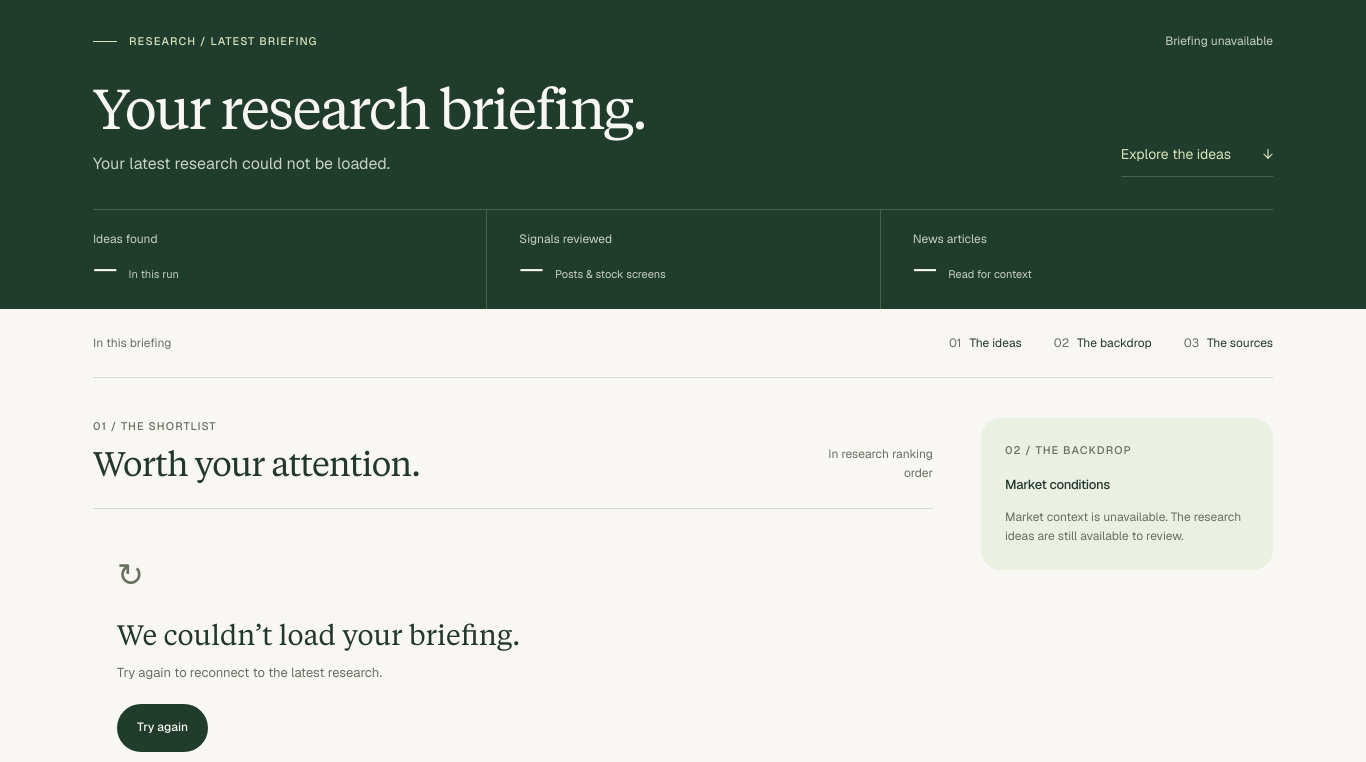
Test: research briefing › distinguishes the first-run empty state from a fetch failure and supports retry
Check: the message shows "We couldn’t load your briefing.", box [117, 615, 520, 652]
Check: the text "No qualifying ideas this run" is not shown
Click the button "Try again": (163, 728) [117, 704, 208, 752]
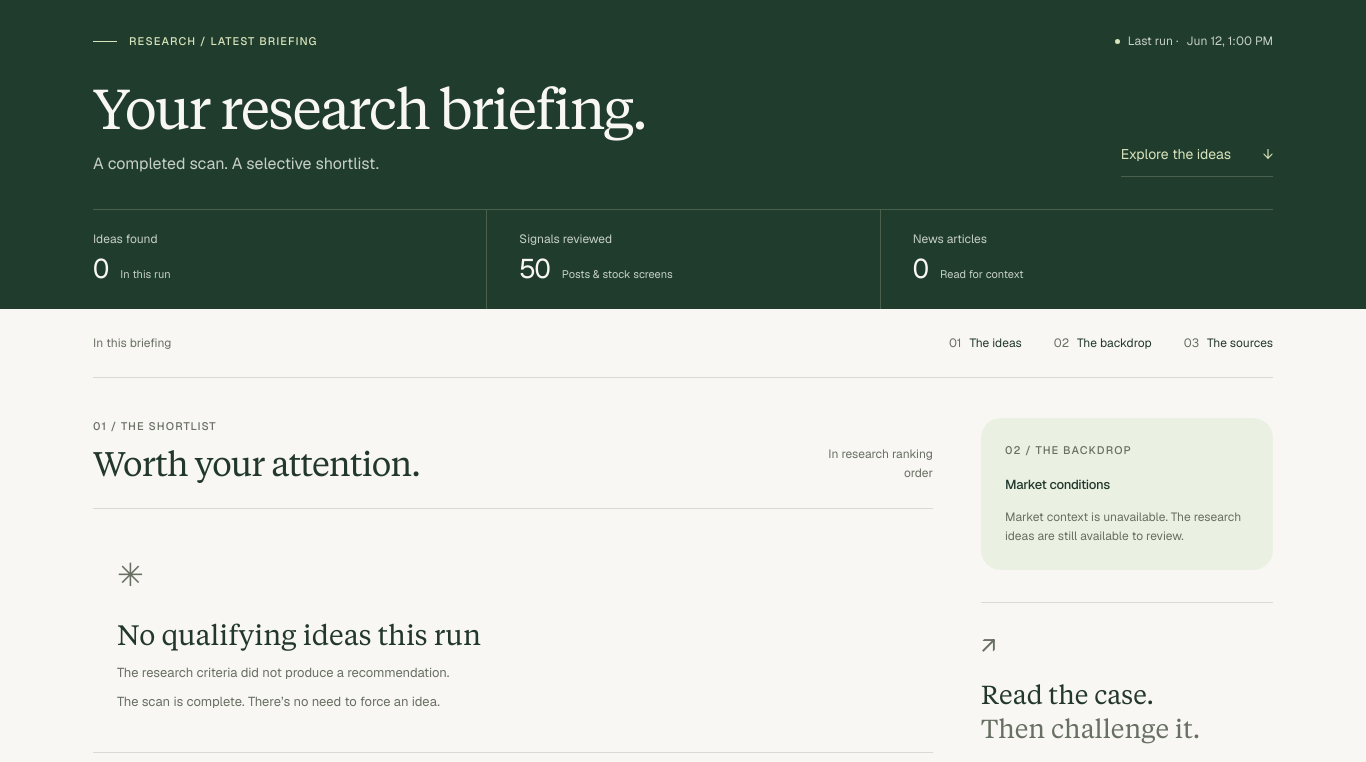
Check: the heading "No qualifying ideas this run" is shown, box [117, 615, 481, 652]
